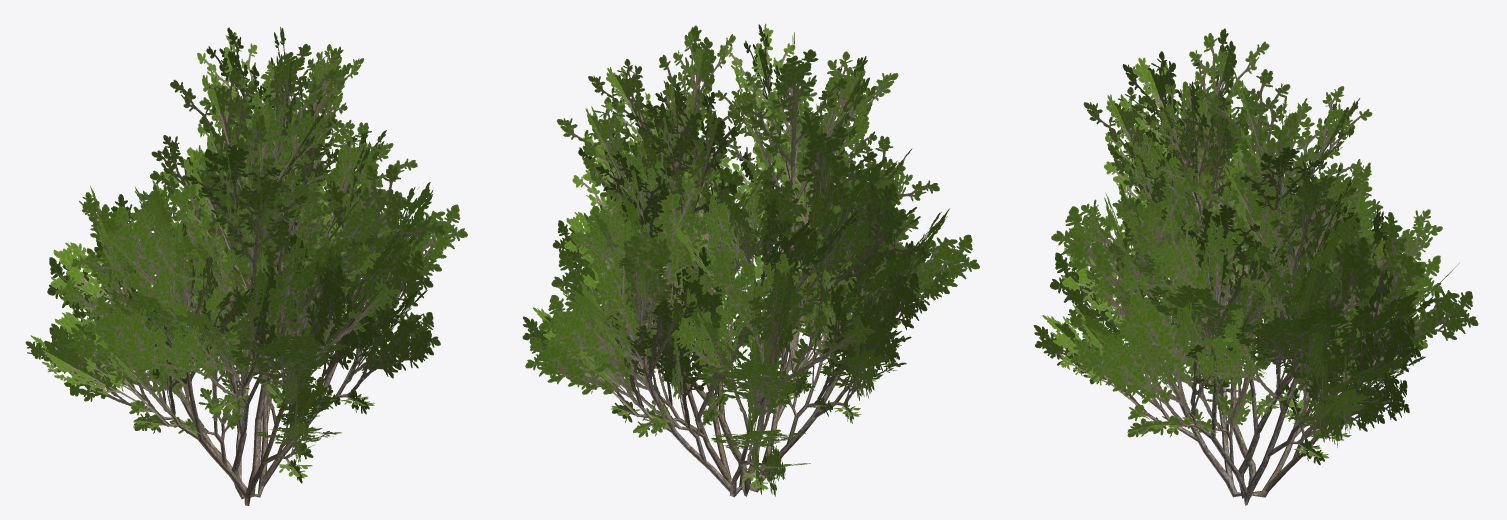
File: CercocarpusMontanus.glb
3 views of the same model, side by side, from view 1: azimuth 30°, elevation 25°; view 2: azimuth 150°, elevation 25°; view 3: azimuth 270°, elevation 25° (orthographic).
Parts seen in each view (by area): view 1: Mountain_Mahogany__Realistic_LOD3; view 2: Mountain_Mahogany__Realistic_LOD3; view 3: Mountain_Mahogany__Realistic_LOD3.
Part boxes in pixels (x1=…): Mountain_Mahogany__Realistic_LOD3: x1=25, y1=27, x2=467, y2=505; Mountain_Mahogany__Realistic_LOD3: x1=522, y1=23, x2=979, y2=497; Mountain_Mahogany__Realistic_LOD3: x1=1033, y1=28, x2=1478, y2=505.
Size of the model in its own units: 3.59 by 4.06 by 3.76.
1 material, 1 textured.
